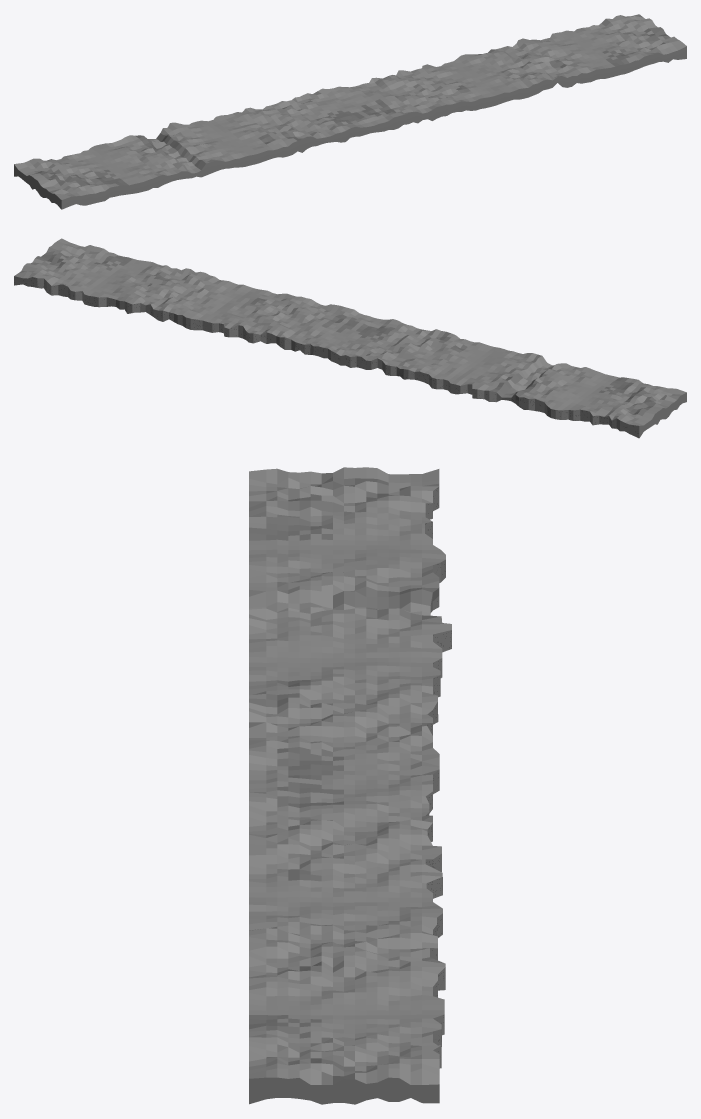
Rendered from red_near_wall.fbx.
The picture shows the model from 3 angles, top to bottom: view 1: azimuth 30°, elevation 25°; view 2: azimuth 150°, elevation 25°; view 3: azimuth 270°, elevation 25°; orthographic projection. The views are drawn at different scales.
Visible parts, largest first — view 1: Grid; view 2: Grid; view 3: Grid.
Part boxes in pixels (x1,y1,x2,y2): Grid: [14, 14, 686, 209]; Grid: [14, 238, 686, 438]; Grid: [249, 467, 451, 1104].
Size of the model in its own units: 16.24 by 0.3451 by 2.28.
Materials: 3 (3 with a texture image).
